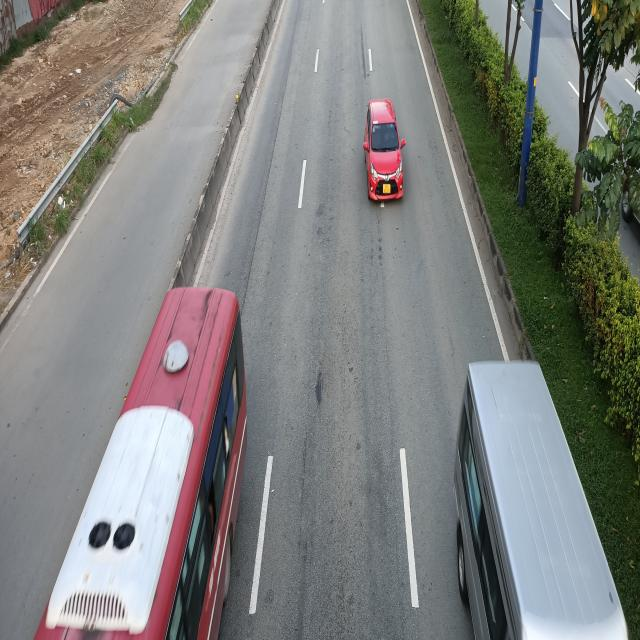car: (362, 99, 402, 202)
coach: (32, 288, 245, 640)
van: (457, 365, 639, 640)
